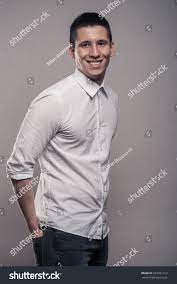height_frame: (17, 11, 130, 267)
hip_frame: (35, 223, 110, 233)
shoulder_frame: (39, 90, 120, 99)
waist_frame: (42, 168, 106, 176)
